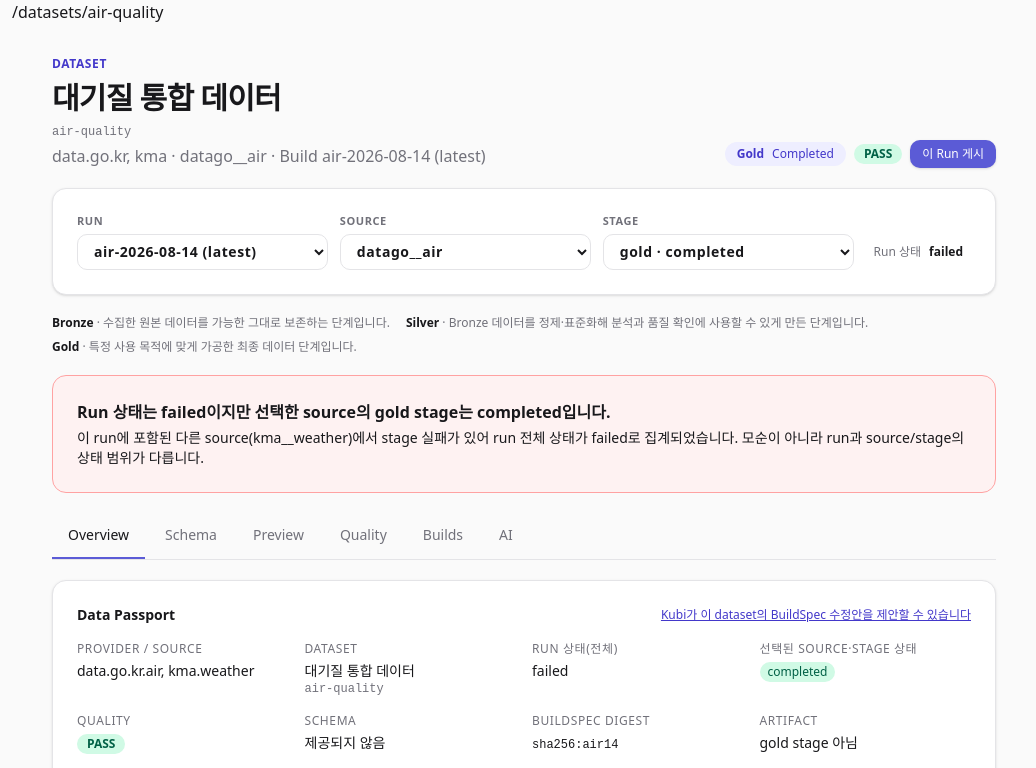
Test: Dataset Detail P0 (#253) › synchronizes source selection and chooses bronze when no higher stage completed
Step 1. Select "kma__weather" in the dropdown named "Source 선택" → (465, 252), box [340,234,591,270]
(page scrolled)
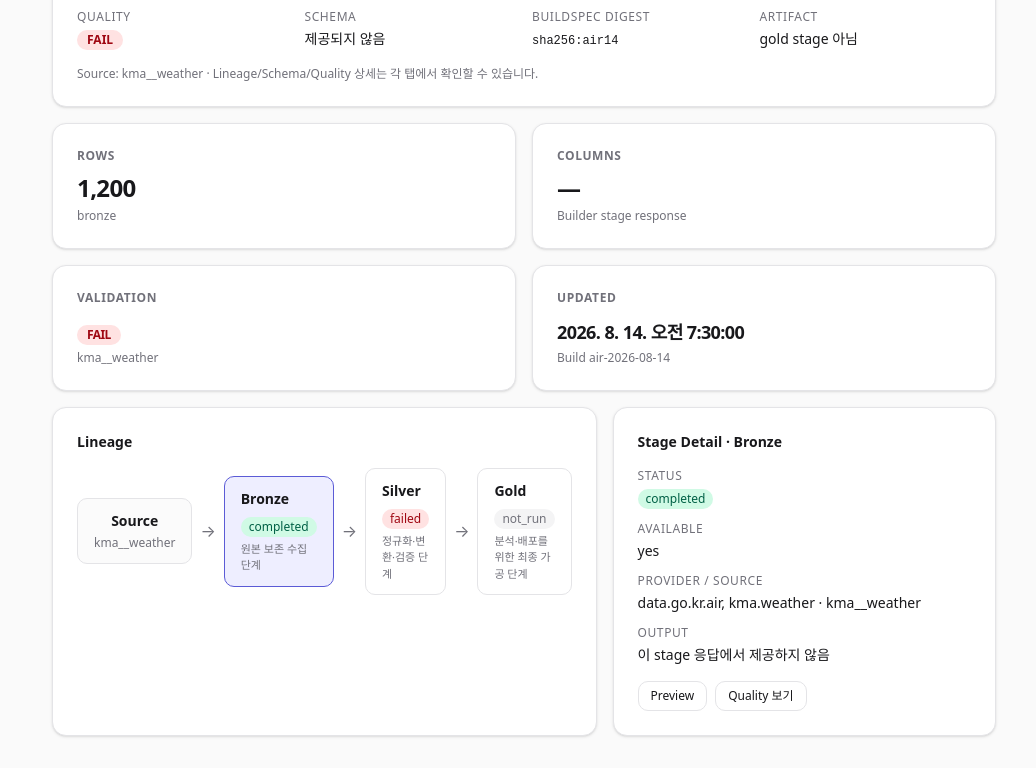
Check: the button "silver failed 정규화·변환·검증 단계" is shown, box [365,468,446,595]
Check: the button "gold not_run 분석·배포를 위한 최종 가공 단계" is shown, box [477,468,572,595]
